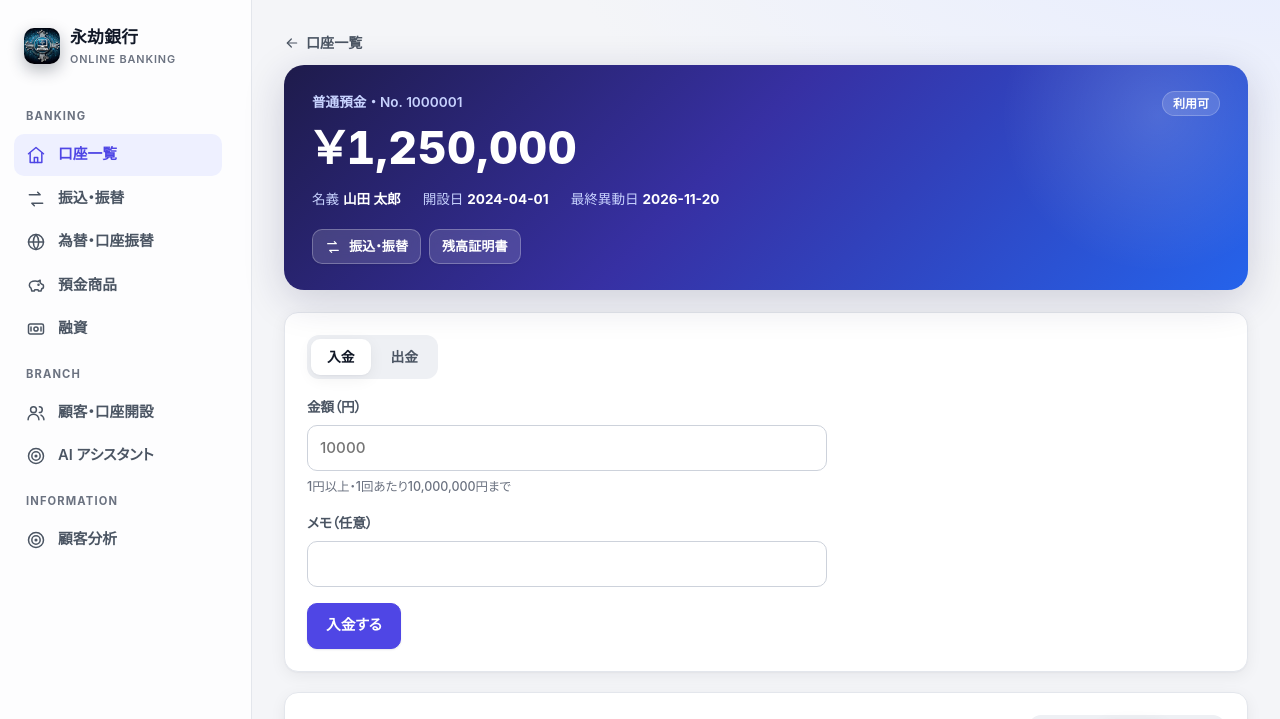
it: AccountDetailPage › 行員：出金タブに切り替えて出金し、エラーを表示する
Click the tab "出金" at coordinates (404, 357), box [374,339,434,375]
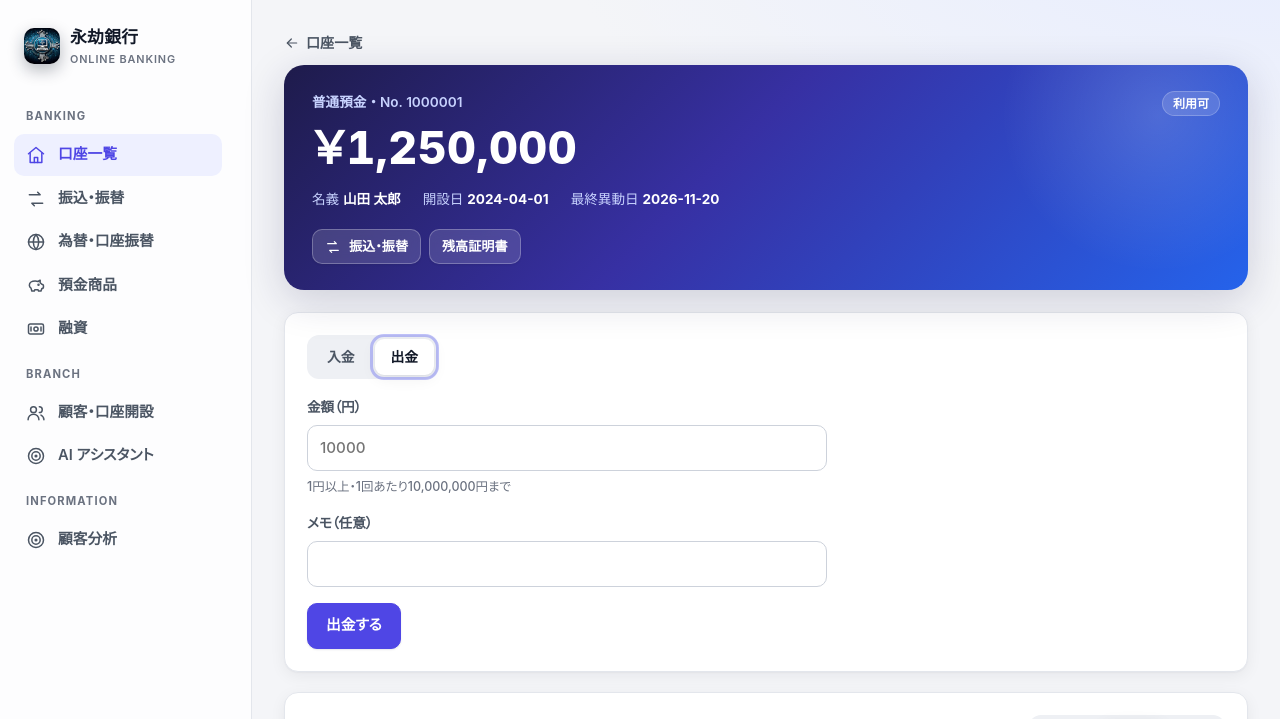
Type "99999999" into the field labelled "金額（円） 1円以上・1回あたり10,000,000円まで" at coordinates (567, 448), box [307,425,827,471]
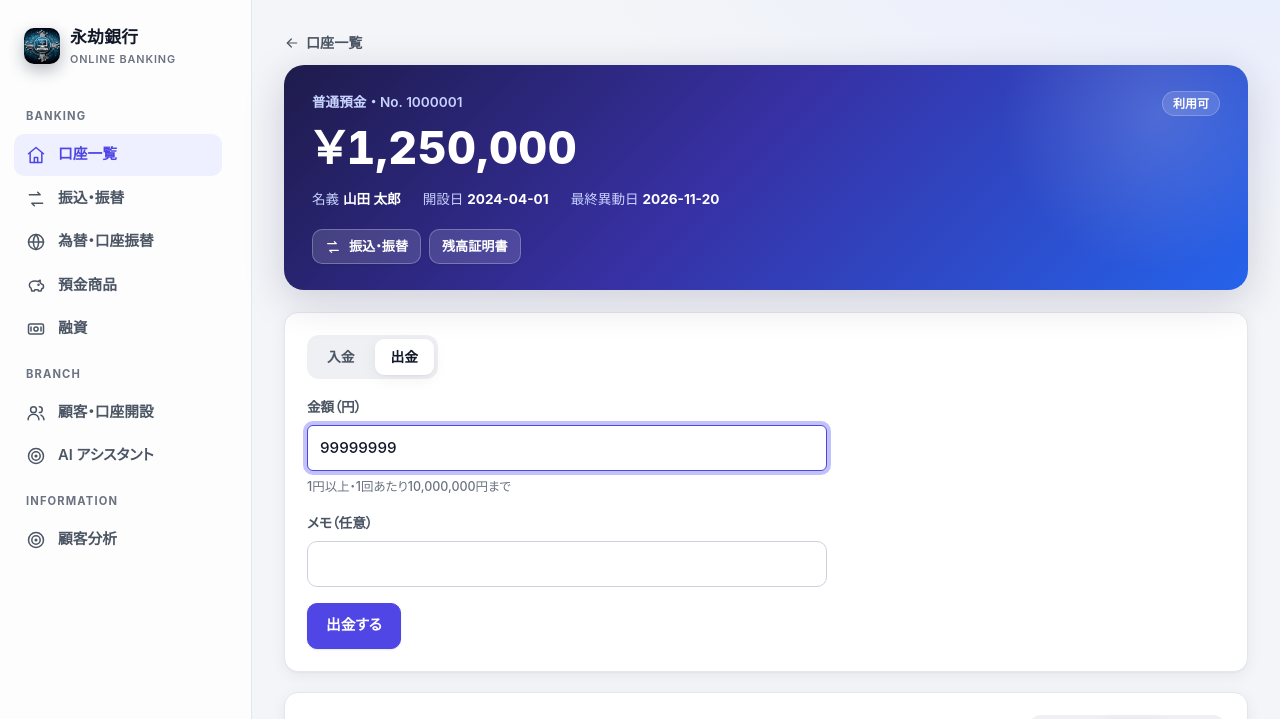
Click the button "出金する" at coordinates (354, 626), box [307,603,401,649]
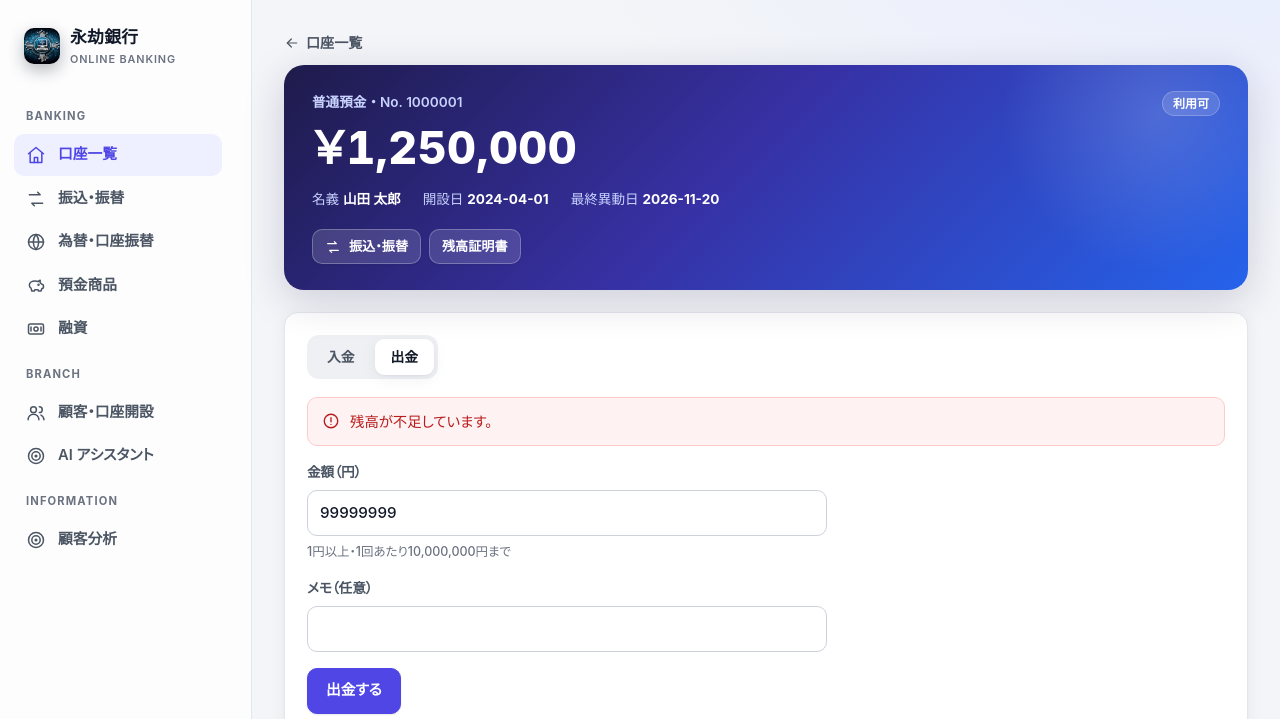
Expected: the text "残高が不足しています。" is shown, [350,410,492,433]
